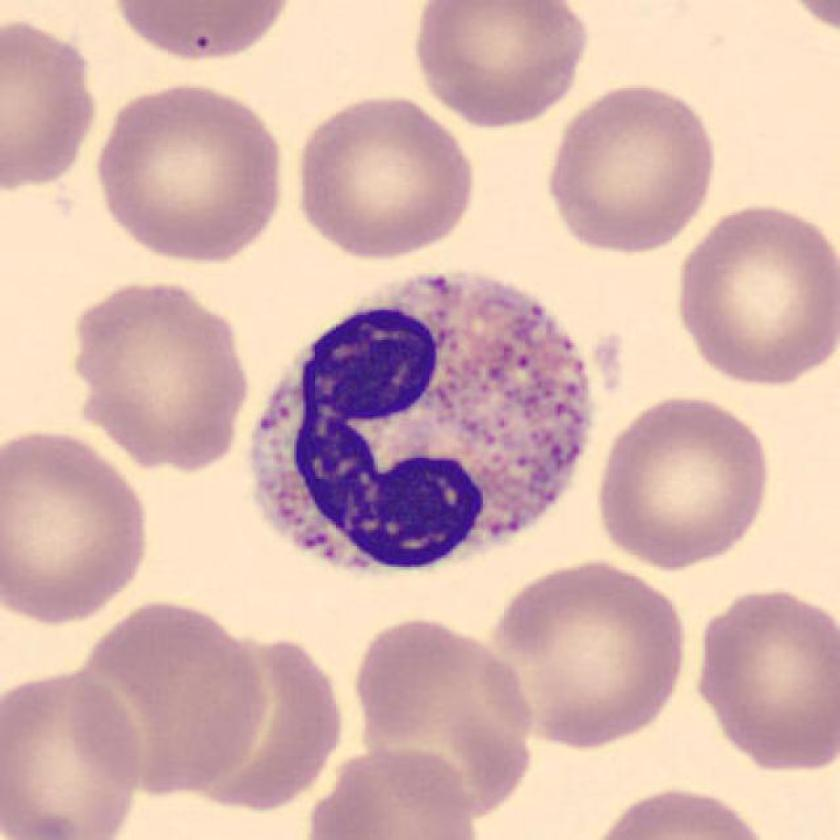neutrophil: (251, 273, 592, 571)
